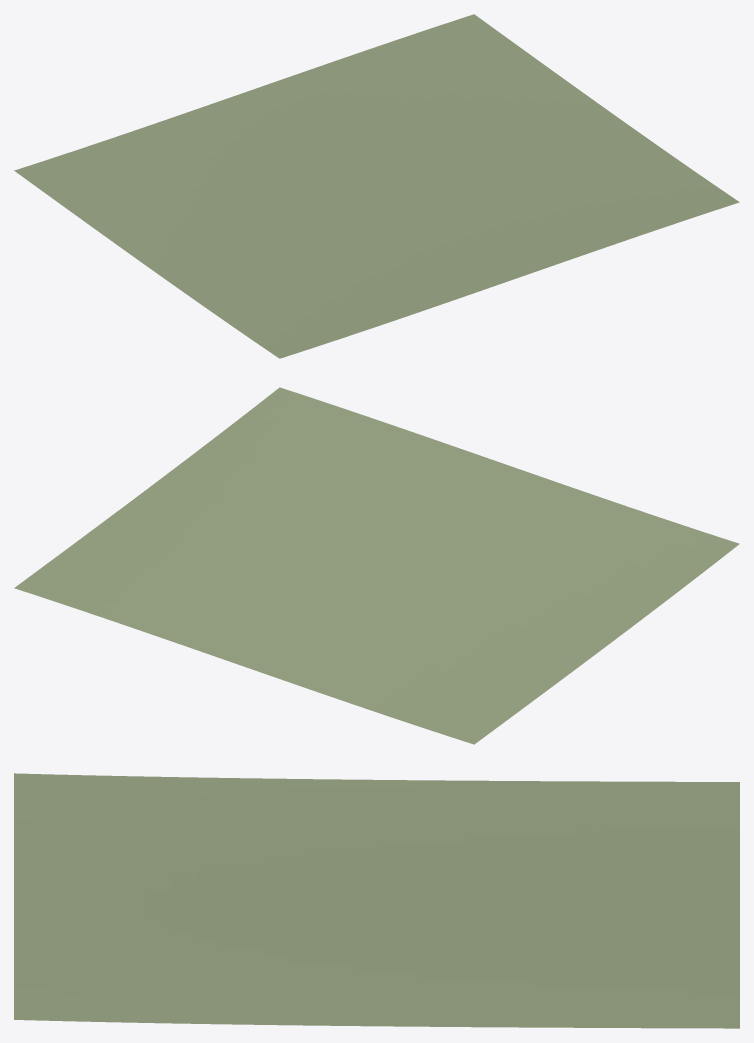
The model's file is valley-5-11.glb.
3 views of the same model, one above another, from view 1: azimuth 30°, elevation 25°; view 2: azimuth 150°, elevation 25°; view 3: azimuth 270°, elevation 25° (orthographic). The views are drawn at different scales.
Parts seen in each view (by area): view 1: valley-5-11; view 2: valley-5-11; view 3: valley-5-11.
Part boxes in pixels (x1,y1,x2,y2): valley-5-11: (14,14,739,358); valley-5-11: (14,387,739,744); valley-5-11: (14,773,739,1028).
Bounding box in the file's own units: 256 × 26.84 × 256.
